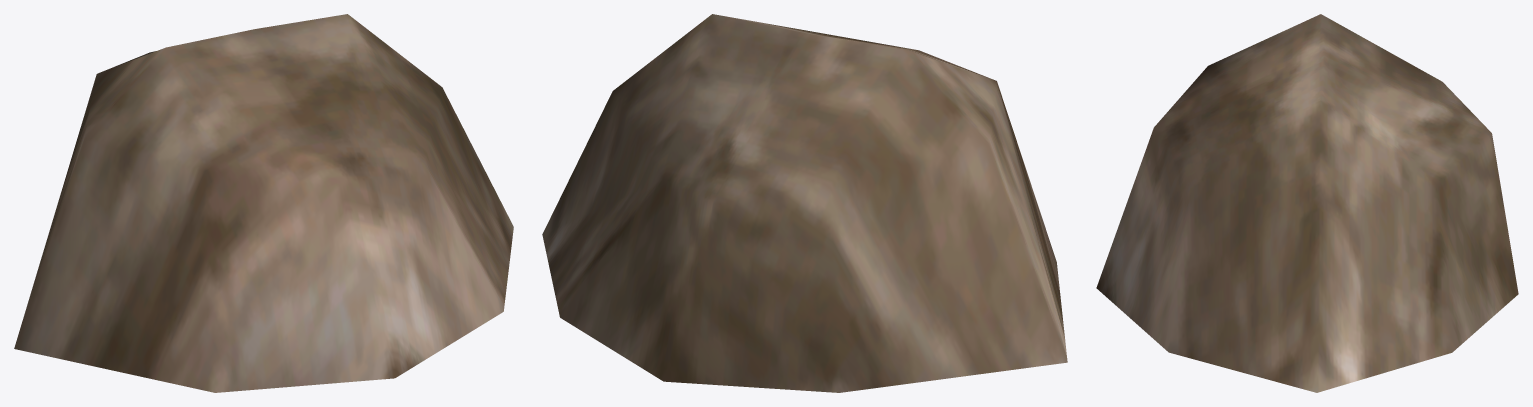
The model's file is OVERHILL_A_01_ROCK64.obj.
3 views of the same model, side by side, from view 1: azimuth 30°, elevation 25°; view 2: azimuth 150°, elevation 25°; view 3: azimuth 270°, elevation 25° (orthographic). The views are drawn at different scales.
Visible parts, largest first — view 1: rock64; view 2: rock64; view 3: rock64.
Boxes of the visible parts, left/top/right/bottom form: rock64: left=14, top=14, right=513, bottom=392; rock64: left=542, top=14, right=1067, bottom=392; rock64: left=1096, top=14, right=1518, bottom=392.
Size of the model in its own units: 46.11 by 23.12 by 38.36.
